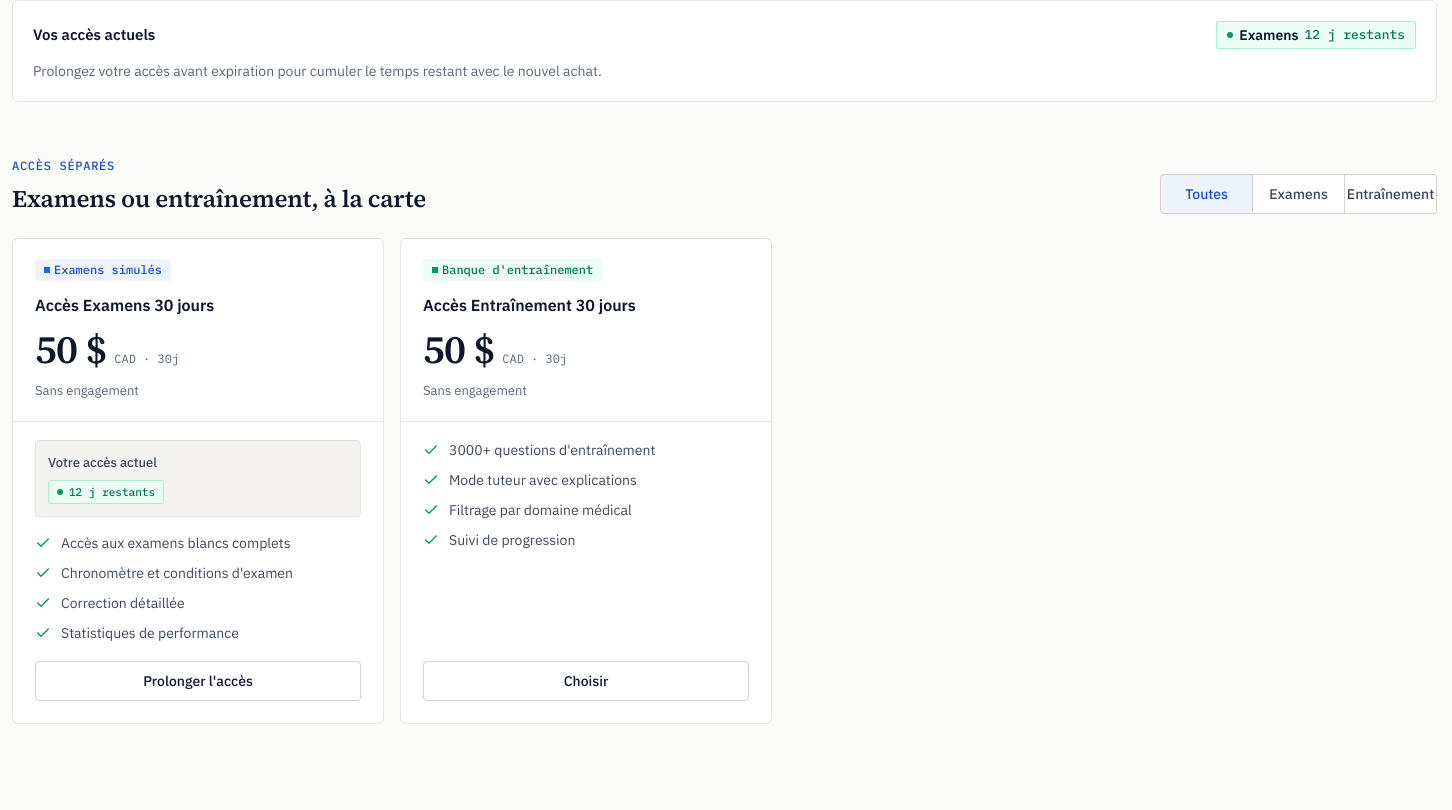
it: PricingGrid › filtre la grille par type d'accès
Check: the heading "Accès Entraînement 30 jours" is shown, box [423,295,636,315]
Click the radio button labelled "Examens" at {"x": 1299, "y": 194}, box [1253,174,1345,214]
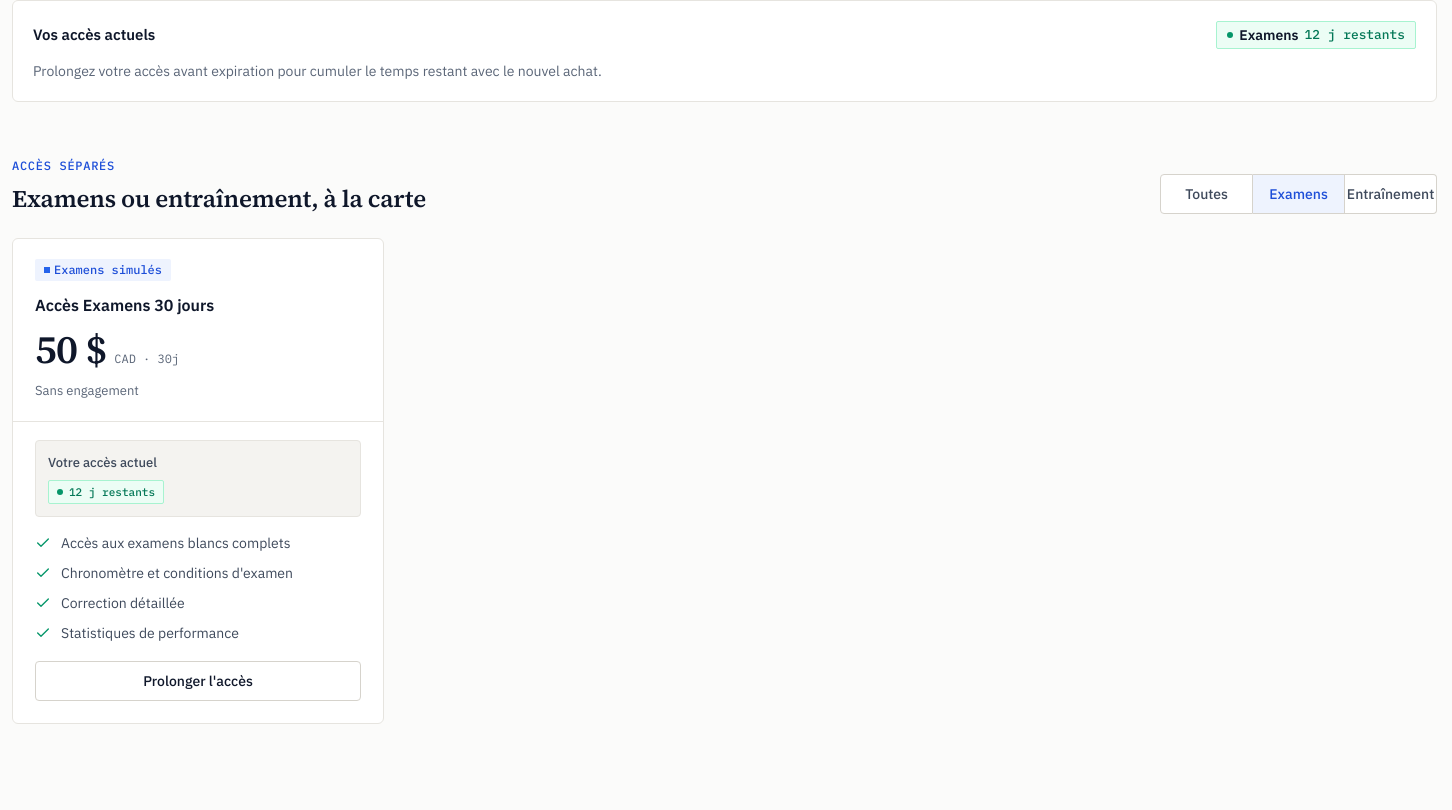
Check: the heading "Accès Examens 30 jours" is shown, box [35,295,214,315]
Check: the heading "Accès Entraînement 30 jours" is gone
